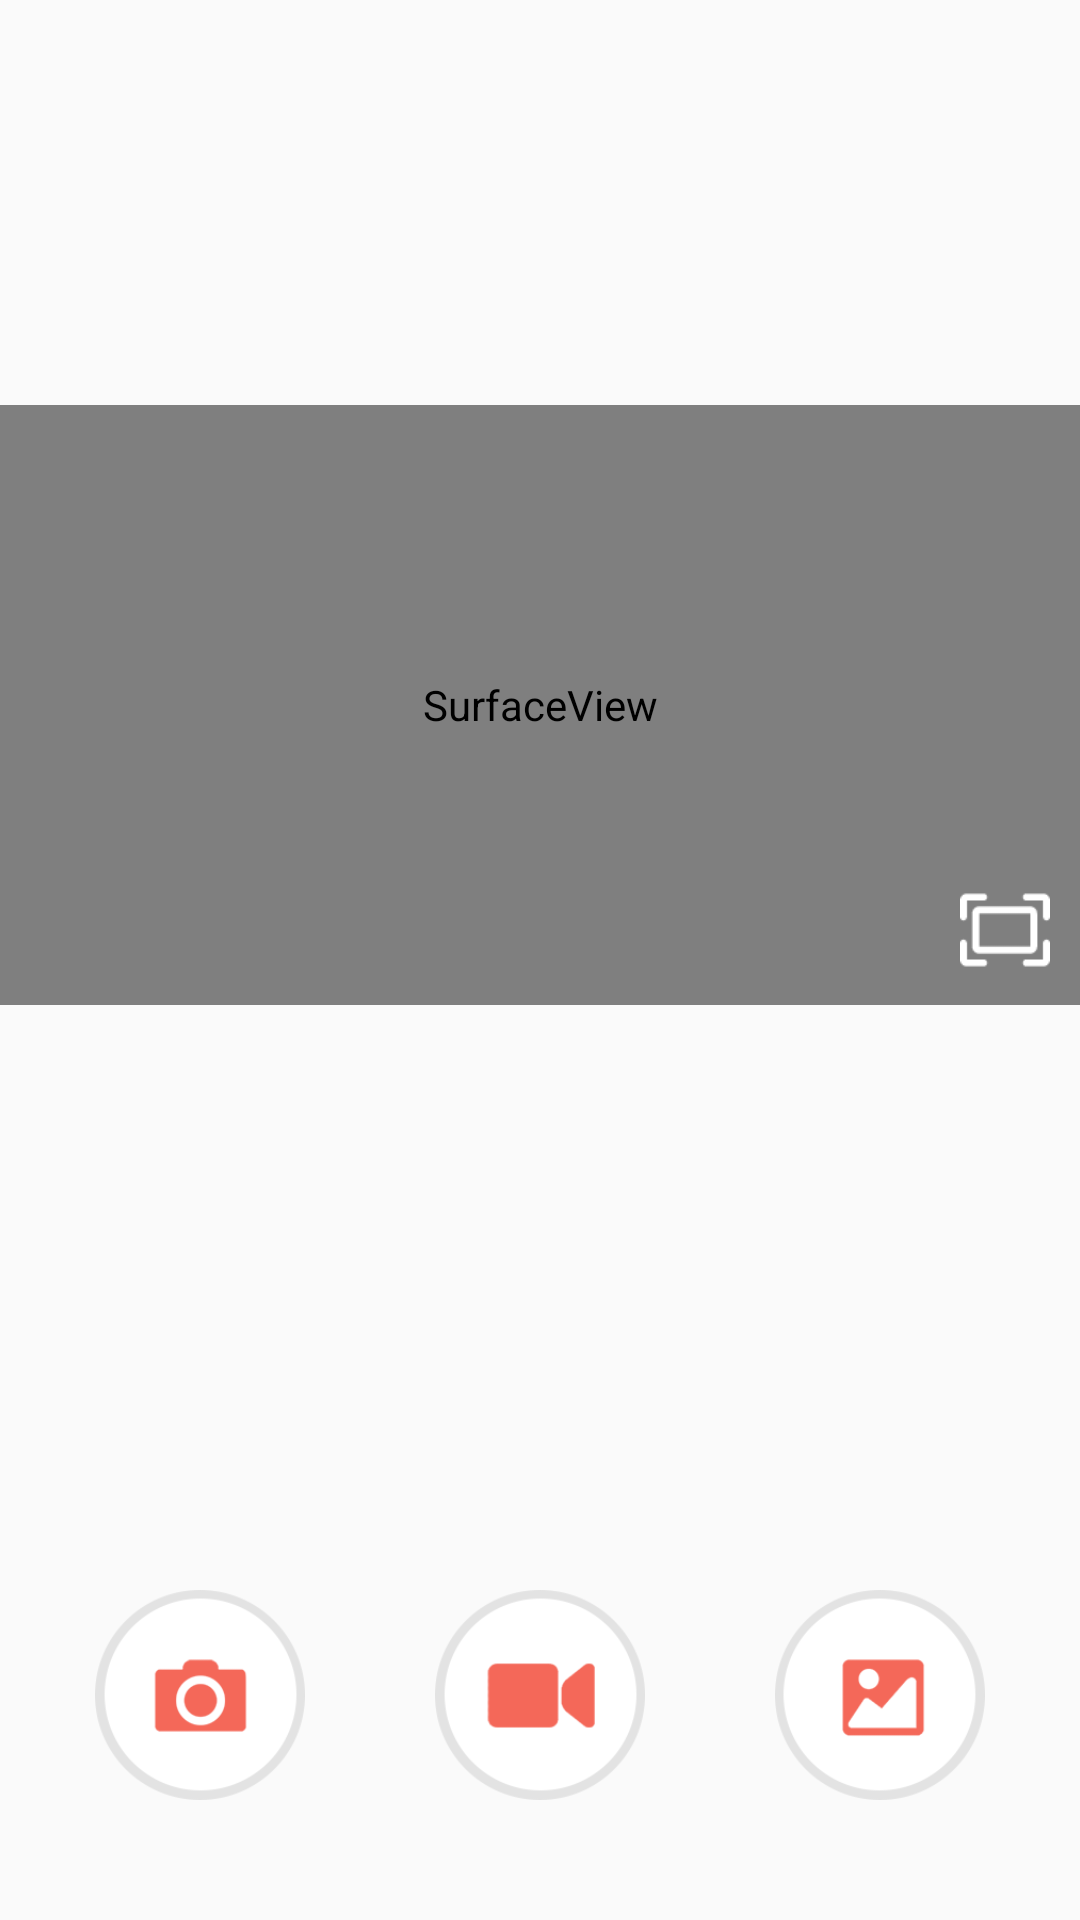

Point at icon controls on the screen. Image size 1080*1920, points as point (x, y).
fullscreen: point (1005, 930)
record: point (541, 1695)
remote pic: point (883, 1697)
takepic: point (201, 1695)
